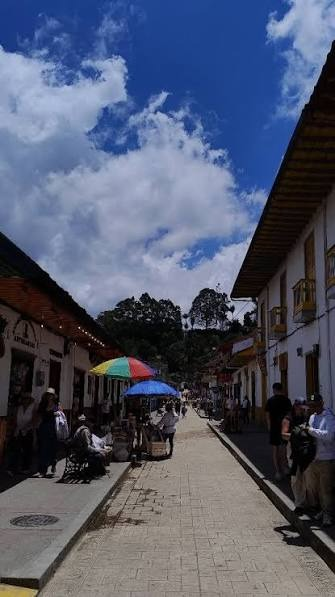car: (61, 417, 109, 481)
